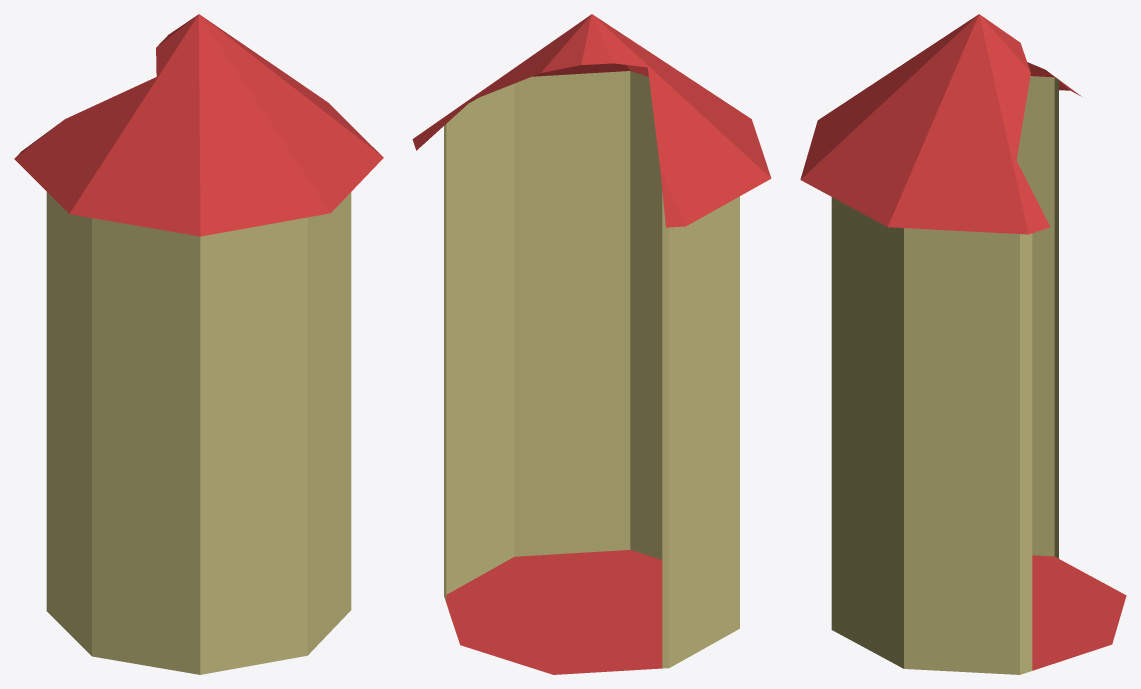
3 views of the same model, side by side, from view 1: azimuth 30°, elevation 25°; view 2: azimuth 150°, elevation 25°; view 3: azimuth 270°, elevation 25° (orthographic).
Bounding box in the file's own units: 5.94 × 5.41 × 10.96.
